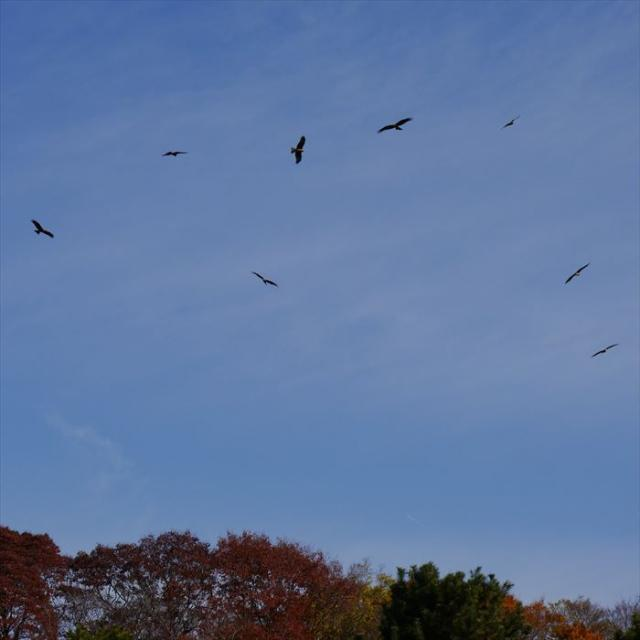bird: (378, 117, 415, 136), (288, 135, 307, 167), (564, 263, 592, 284), (250, 271, 280, 290), (588, 342, 620, 358), (33, 220, 56, 240), (162, 148, 188, 161), (502, 117, 520, 131)
